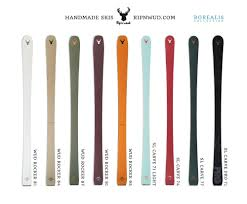skis: (43, 34, 58, 187), (92, 34, 106, 187), (115, 35, 129, 187), (187, 35, 200, 185), (163, 35, 175, 189), (20, 36, 32, 189), (139, 36, 151, 189), (211, 35, 223, 187), (68, 36, 80, 185)
